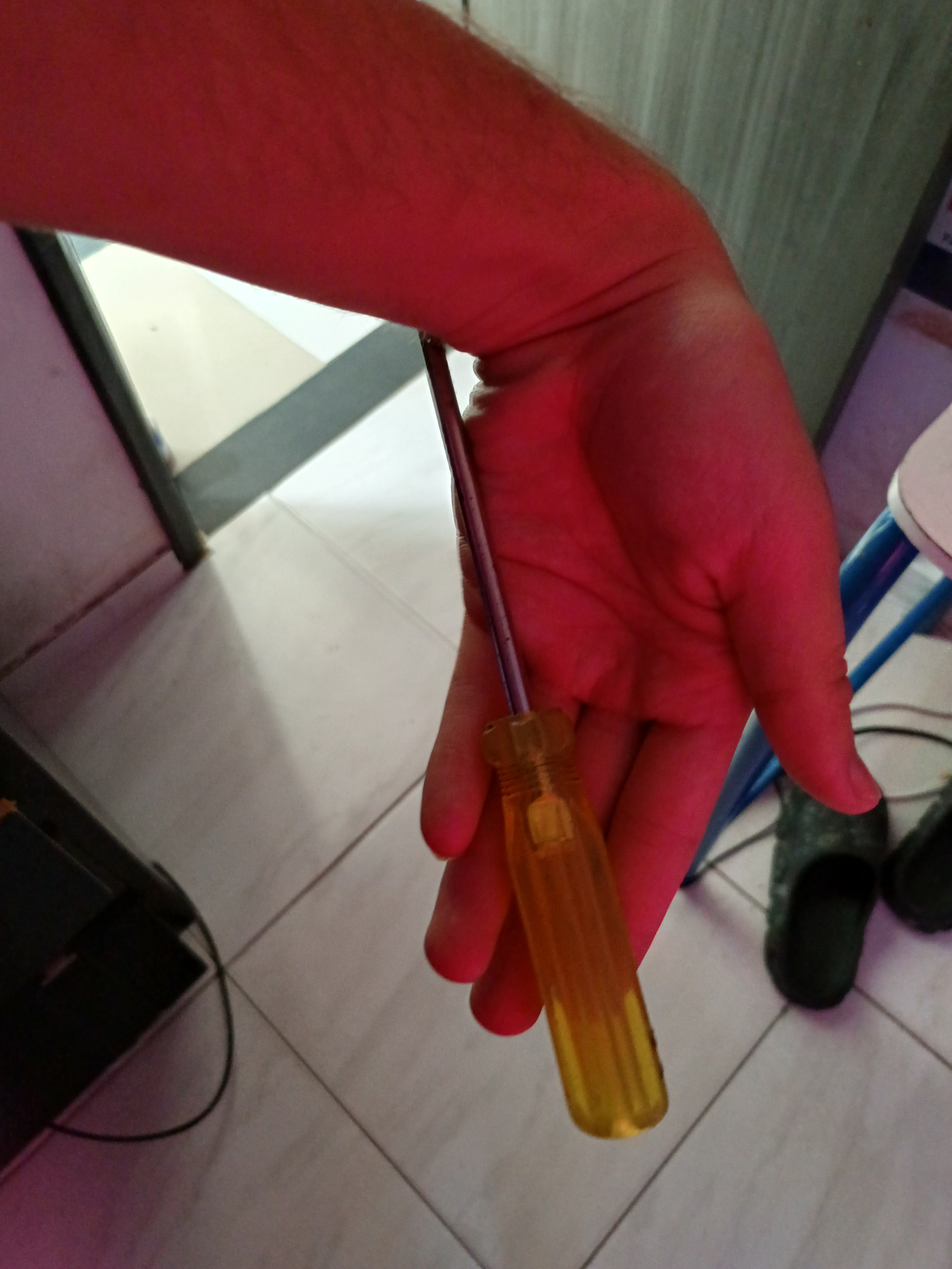Destornillador: (421, 333, 667, 1138)
